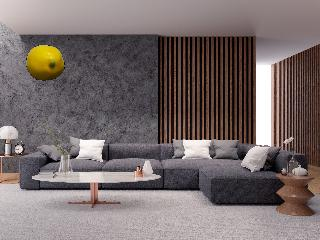lemon: (26, 45, 65, 82)
